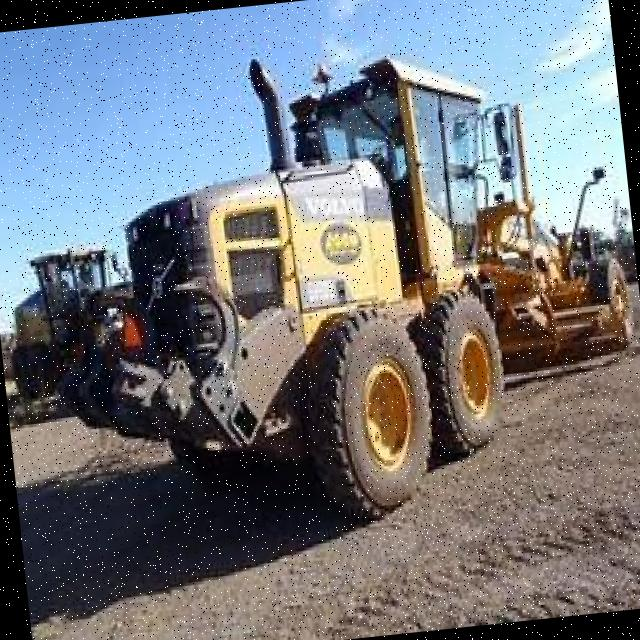Grader: (52, 7, 640, 543)
